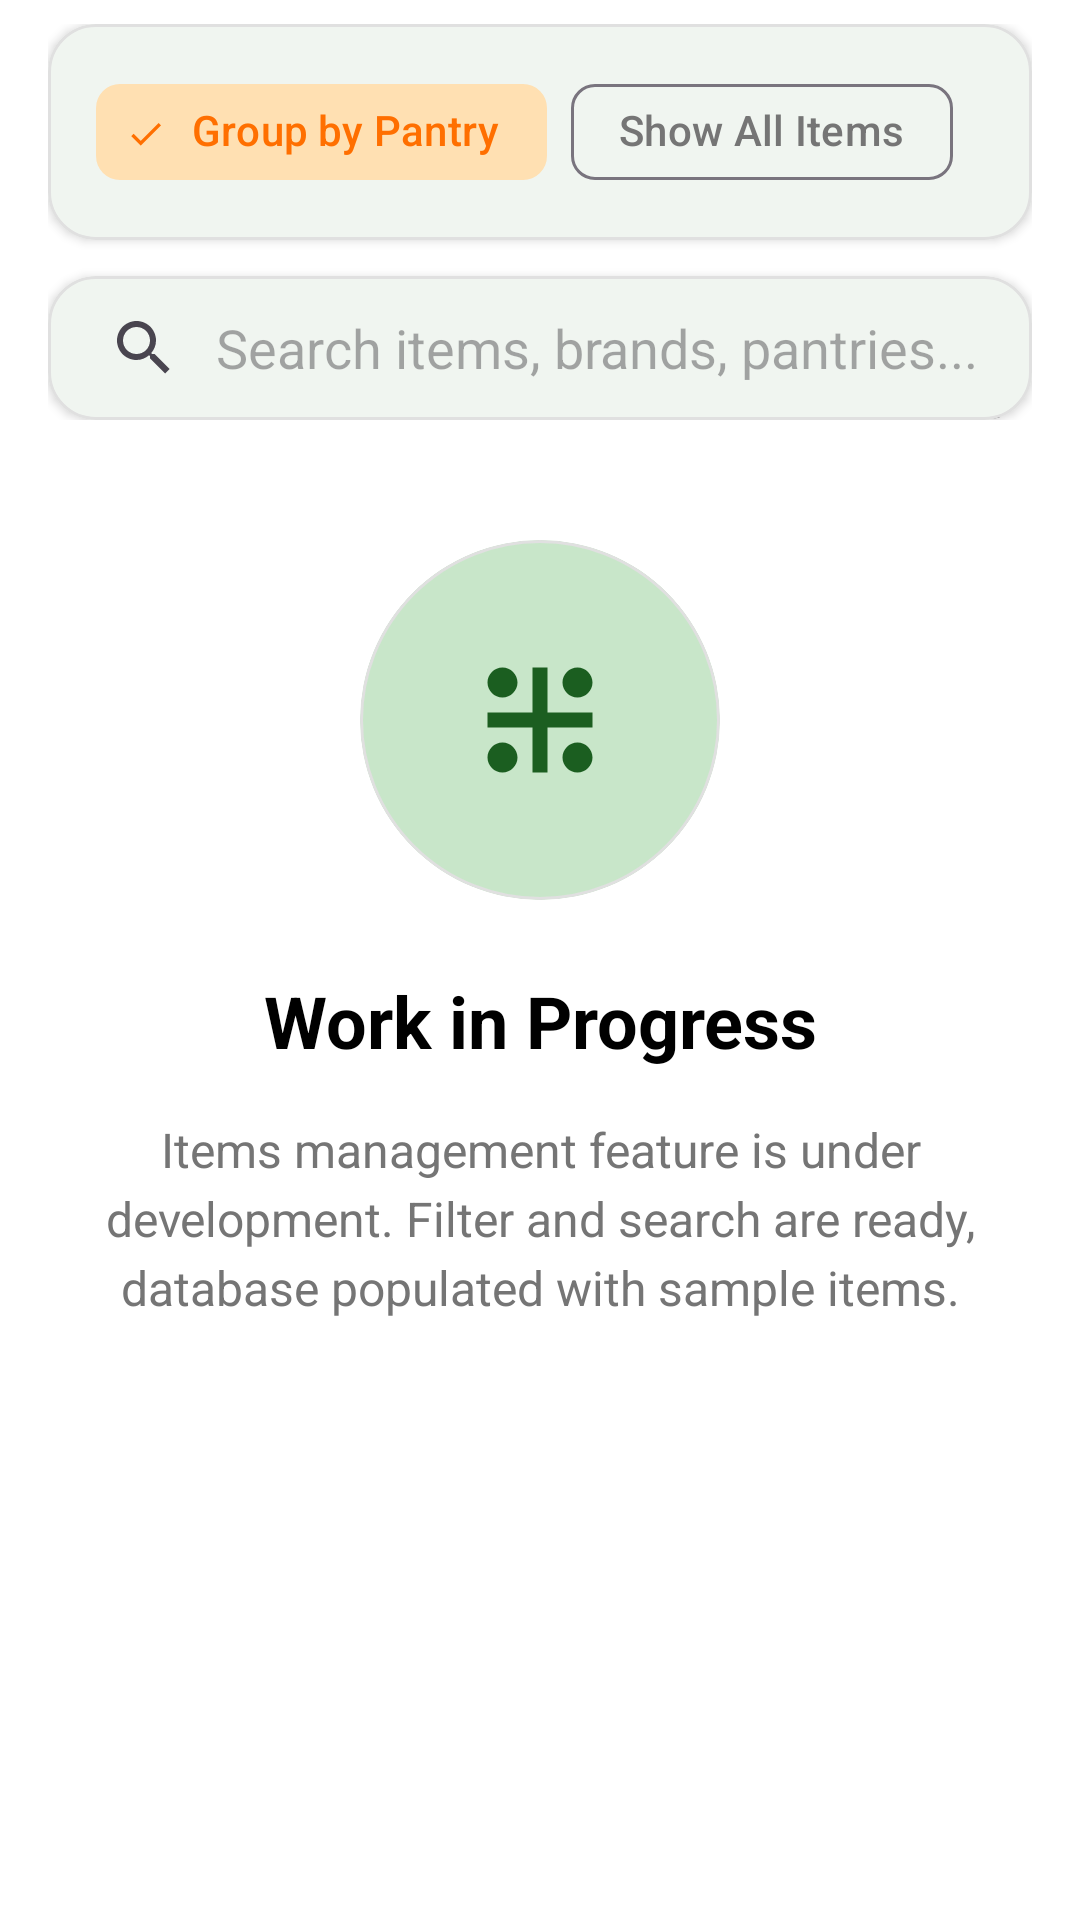

Where to tap for icons on this 1080x1920 app screen, as [x,y]:
items: [540,720]
